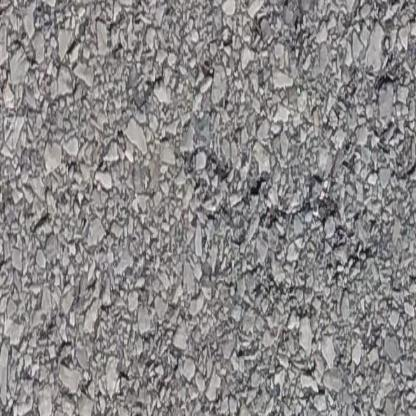Cracks: (85, 24, 188, 228), (0, 229, 66, 269), (52, 241, 92, 298), (205, 0, 286, 17)
